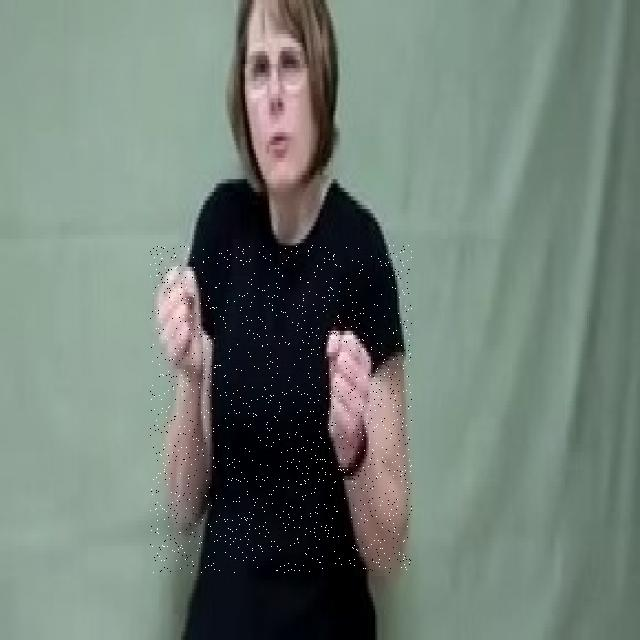cold: (150, 246, 412, 574)
